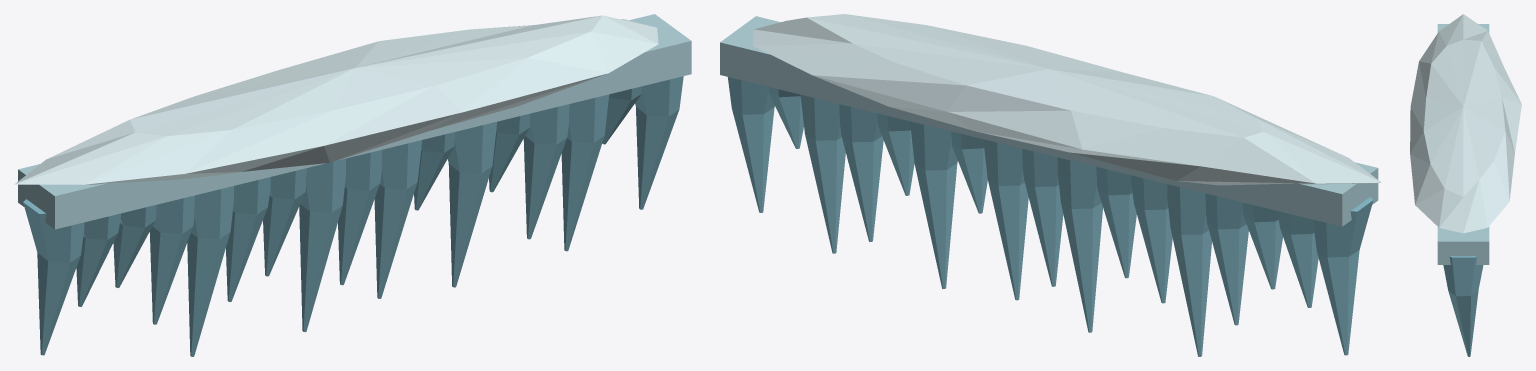
Rendered from FROST_05_FrozenEdgeDetail.glb.
3 renders of one model, left to right at view 1: azimuth 30°, elevation 25°; view 2: azimuth 150°, elevation 25°; view 3: azimuth 270°, elevation 25°, orthographic. The views are drawn at different scales.
Visible parts, largest first — view 1: FROST_05_FrozenEdgeDetail; view 2: FROST_05_FrozenEdgeDetail; view 3: FROST_05_FrozenEdgeDetail.
Part boxes in pixels (left/top/right/bottom): FROST_05_FrozenEdgeDetail: left=14, top=14, right=691, bottom=356; FROST_05_FrozenEdgeDetail: left=720, top=14, right=1381, bottom=356; FROST_05_FrozenEdgeDetail: left=1410, top=14, right=1521, bottom=356.
Bounding box in the file's own units: 1.88 × 0.6893 × 0.3917.
